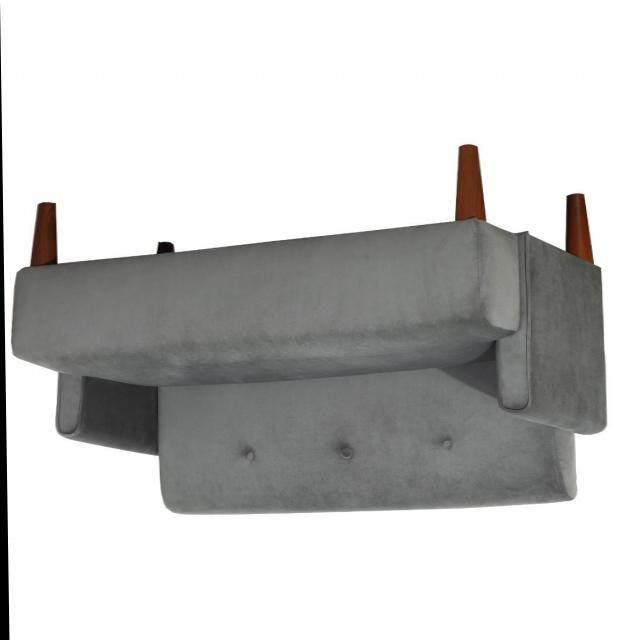Sofa: (12, 145, 609, 516)
